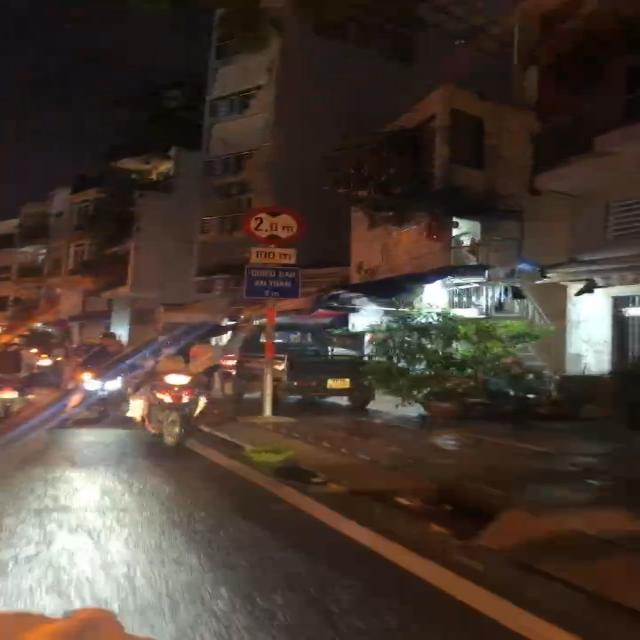Bien bao han che chieu cao: (239, 203, 310, 246)
